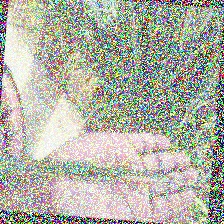Leaf_Blast: (35, 161, 206, 195)
